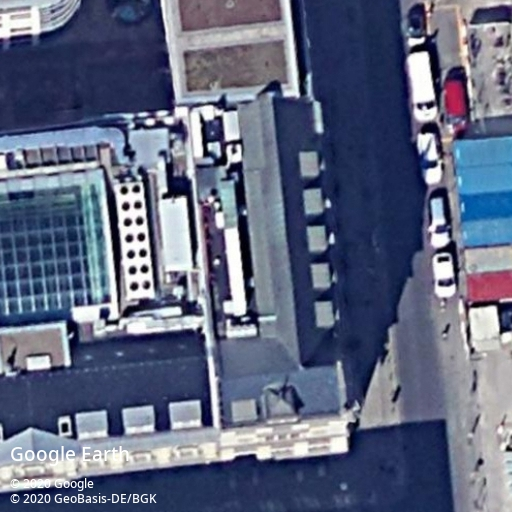Chiller: (114, 180, 156, 300)
